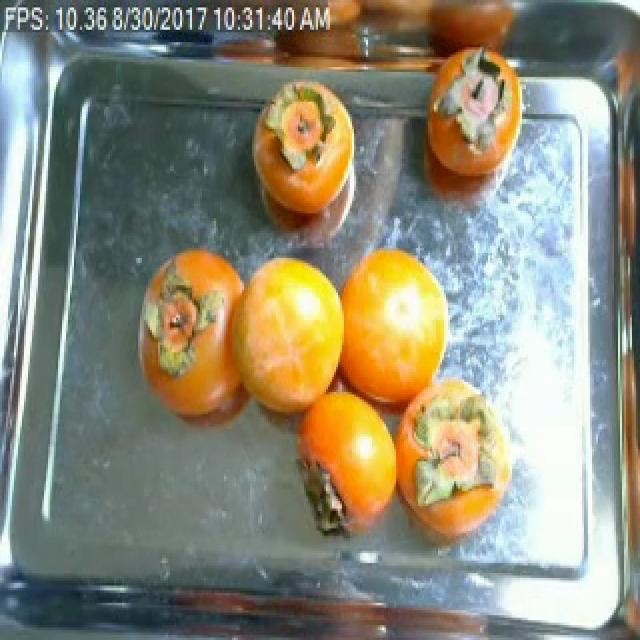Fruit: (324, 228, 462, 417)
